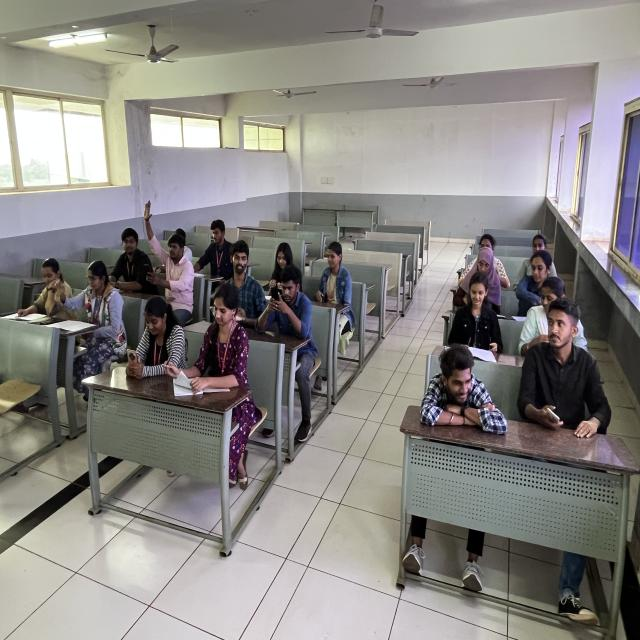Reading: (178, 278, 250, 406), (6, 248, 63, 326), (67, 254, 114, 337)
Using Phone: (521, 297, 610, 459), (122, 286, 180, 393), (138, 243, 204, 320), (259, 268, 319, 348)
